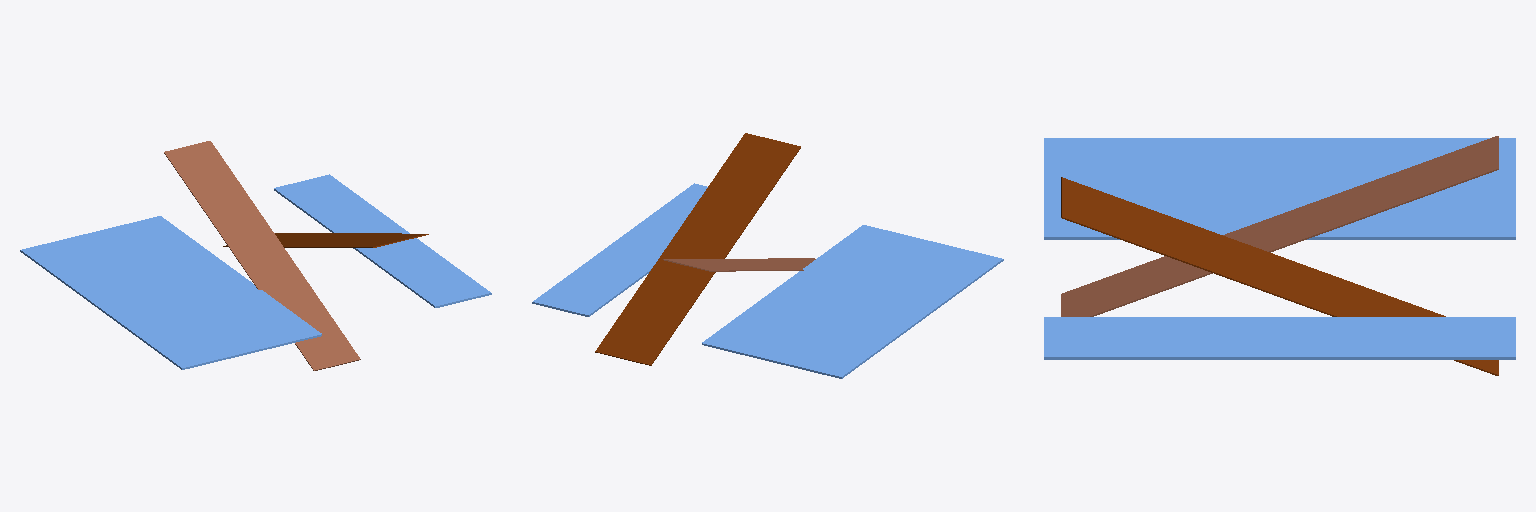
robot.urdf — chimney:
<?xml version="0.0" ?>
<robot name="chimney">

  <material name = "light_blue">
      <color rgba="0.52 0.73 1 1"/>
  </material>

  <material name = "brown">
      <color rgba="0.68 0.45 0.35 1.0"/>
  </material>

  <material name="brown2">
      <color rgba="0.545 0.27 0.074 1.0"/>
  </material>

  <link name="first_ground">
    <inertial>
      <origin rpy="0 0 0" xyz="0 0 0"/>
       <mass value="1.0"/>
       <inertia ixx="1" ixy="0" ixz="0" iyy="1" iyz="0" izz="1"/>
    </inertial>
    <visual>
      <origin rpy="0 0 0" xyz="-0.2 0 -0.005"/>
      <geometry>
        <box size="0.75 1.5 0.01"/>
      </geometry>
      <material name="light_blue"/>
    </visual>
  </link>

  <joint name="first_to_second" type="fixed">
    <origin rpy="0 0 0" xyz="0.2826 0 0.08"/>
    <parent link="first_ground"/>
    <child link="second_ground"/>
  </joint>
  <link name="second_ground">
    <inertial>
      <origin rpy="0 0 0" xyz="0 0 0"/>
       <mass value="1.0"/>
       <inertia ixx="1" ixy="0" ixz="0" iyy="1" iyz="0" izz="1"/>
    </inertial>
    <visual>
      <origin rpy="0.3805 0 0" xyz="0.00372 0 -0.00928"/>
      <geometry>
        <box size="0.25 1.5 0.005"/>
      </geometry>
      <material name="brown"/>
    </visual>
  </link>

  <joint name="first_to_third" type="fixed">
    <origin rpy="0 0 0" xyz="0.622 0 0.08"/>
    <parent link="first_ground"/>
    <child link="third_ground"/>
  </joint>
  <link name="third_ground">
    <inertial>
      <origin rpy="0 0 0" xyz="0 0 0"/>
       <mass value="1.0"/>
       <inertia ixx="1" ixy="0" ixz="0" iyy="1" iyz="0" izz="1"/>
    </inertial>
    <visual>
      <origin rpy="-0.3805 0 0" xyz="0.00372 0 -0.00928"/>
      <geometry>
        <box size="0.3 1.5 0.005"/>
      </geometry>
      <material name="brown2"/>
    </visual>
  </link>

  <joint name="first_to_fourth" type="fixed">
    <origin rpy="0 0 0" xyz="0.93 0 0"/>
    <parent link="first_ground"/>
    <child link="fourth_ground"/>
  </joint>
  <link name="fourth_ground">
    <inertial>
      <origin rpy="0 0 0" xyz="0 0 0"/>
       <mass value="1.0"/>
       <inertia ixx="1" ixy="0" ixz="0" iyy="1" iyz="0" izz="1"/>
    </inertial>
    <visual>
      <origin rpy="0 0 0" xyz="0 0 -0.005"/>
      <geometry>
        <box size="0.3 1.5 0.01"/>
      </geometry>
      <material name="light_blue"/>
    </visual>
  </link>

</robot>

--- Render facts (derived) ---
3 views of the same robot in one strip: view 1: azimuth 30°, elevation 25°; view 2: azimuth 150°, elevation 25°; view 3: azimuth 270°, elevation 25° (orthographic).
Robot: chimney — 4 links, 3 joints (3 fixed); root link first_ground; default pose: all joints at 0.
Links seen in each view (by area): view 1: first_ground, second_ground, fourth_ground, third_ground; view 2: first_ground, third_ground, fourth_ground, second_ground; view 3: first_ground, fourth_ground, third_ground, second_ground.
Boxes of the visible links, x1,y1,x2,y2 form: first_ground: [20, 216, 321, 369]; second_ground: [164, 141, 360, 370]; fourth_ground: [274, 174, 491, 307]; third_ground: [223, 233, 428, 247]; first_ground: [702, 225, 1003, 378]; third_ground: [595, 133, 800, 365]; fourth_ground: [532, 183, 707, 316]; second_ground: [663, 258, 815, 271]; first_ground: [1044, 138, 1515, 239]; fourth_ground: [1044, 317, 1515, 359]; third_ground: [1061, 177, 1498, 375]; second_ground: [1061, 136, 1498, 316].
Size in the robot's own frame: 1.66 by 1.5 by 0.5617 metres.
Geometry: primitives only (box / cylinder / sphere), no mesh files.